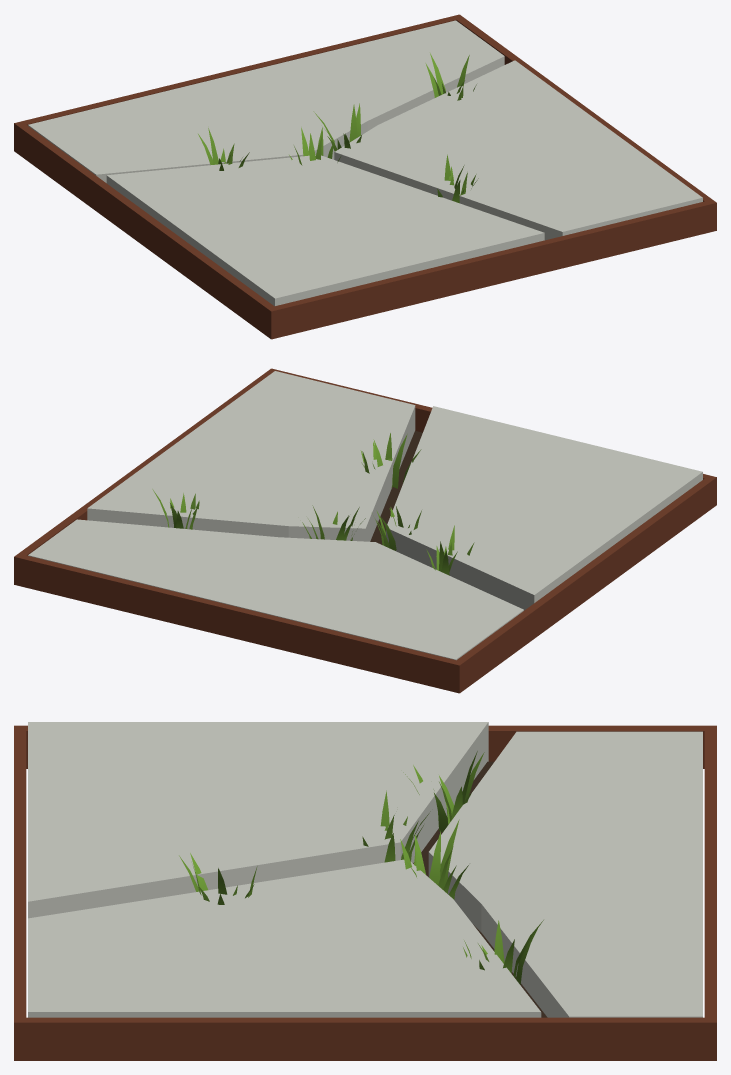
Rendered from RUIN_FLR_TileCracked_2x2.glb.
The picture shows the model from 3 angles, top to bottom: view 1: azimuth 30°, elevation 25°; view 2: azimuth 150°, elevation 25°; view 3: azimuth 270°, elevation 25°; orthographic projection. The views are drawn at different scales.
Visible parts, largest first — view 1: RUIN_FLR_TileCracked_2x2; view 2: RUIN_FLR_TileCracked_2x2; view 3: RUIN_FLR_TileCracked_2x2.
Part boxes in pixels (left/top/right/bottom): RUIN_FLR_TileCracked_2x2: left=14, top=14, right=716, bottom=339; RUIN_FLR_TileCracked_2x2: left=14, top=368, right=716, bottom=693; RUIN_FLR_TileCracked_2x2: left=14, top=722, right=716, bottom=1060.
Size of the model in its own units: 2 by 0.2682 by 2.
